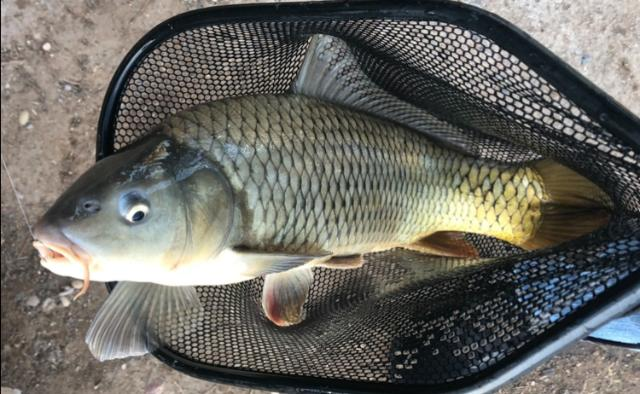Mulut: (84, 274, 222, 368), (23, 218, 93, 306), (218, 240, 322, 278)
Sirip Anal: (402, 228, 484, 276)
Sirip Ekor: (517, 144, 619, 258)
Sirip Perut: (258, 256, 358, 332)
Sirip Punggung: (287, 36, 487, 164)
